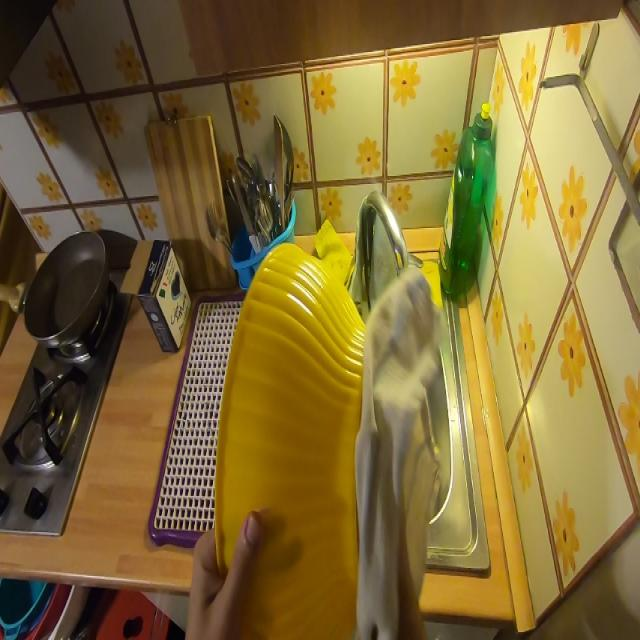colth: (360, 262, 437, 634)
dish soap: (437, 103, 496, 307)
hob: (5, 360, 86, 473)
left hand: (169, 480, 260, 640)
pan: (0, 226, 112, 345)
